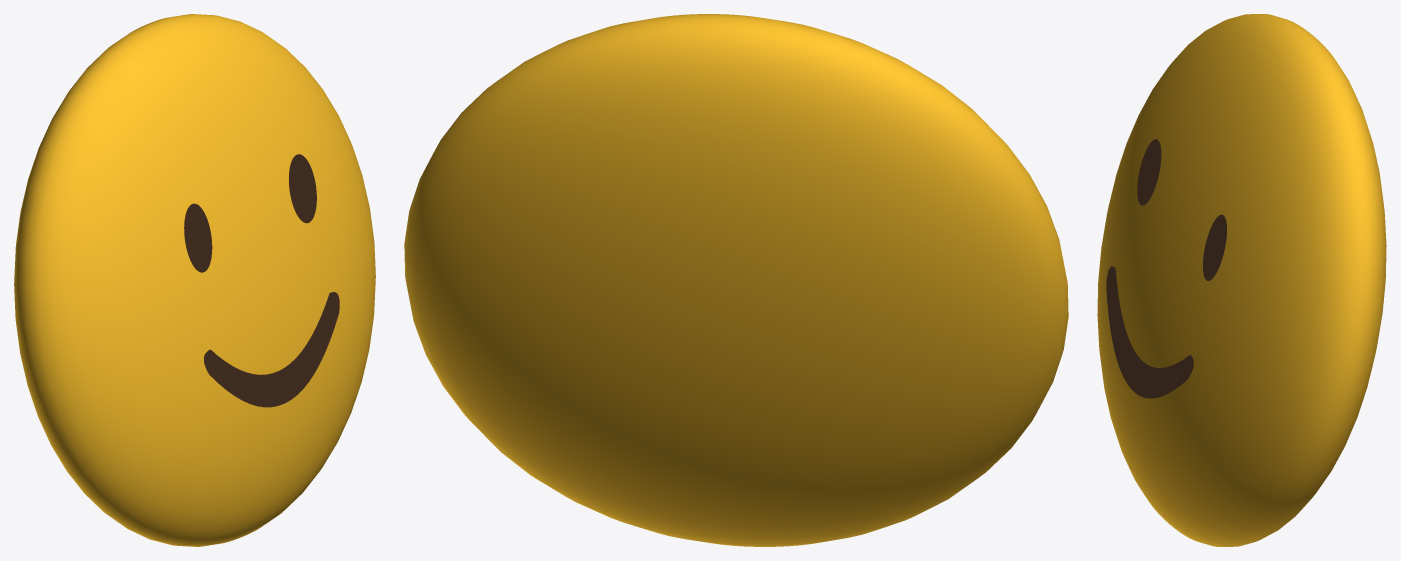
3 renders of one model, left to right at view 1: azimuth 30°, elevation 25°; view 2: azimuth 150°, elevation 25°; view 3: azimuth 270°, elevation 25°, orthographic. The views are drawn at different scales.
Visible parts, largest first — view 1: Smiley, SmileFace; view 2: Smiley; view 3: Smiley, SmileFace.
Part boxes in pixels (bbox=[...]): Smiley: bbox=[14, 14, 375, 546]; SmileFace: bbox=[184, 154, 339, 407]; Smiley: bbox=[404, 14, 1068, 546]; Smiley: bbox=[1097, 14, 1386, 546]; SmileFace: bbox=[1106, 139, 1226, 398].
Size of what is drawn, in the model's own units: 1.68 by 1.74 by 0.9718.
